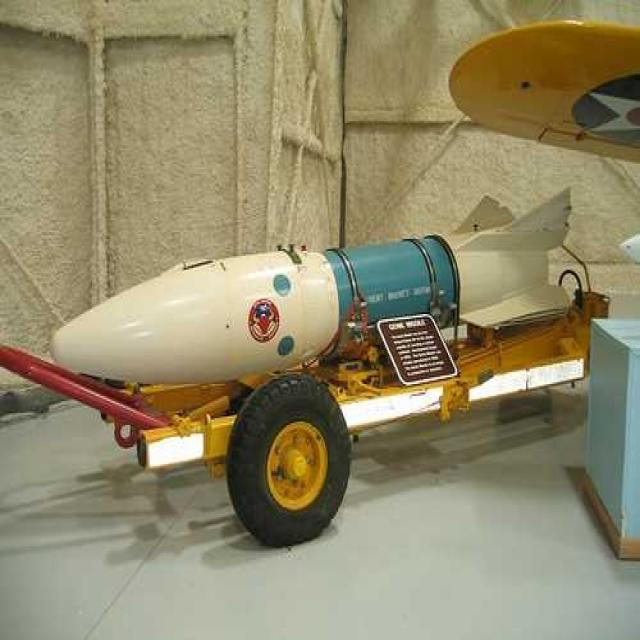missile: (49, 183, 574, 384)
